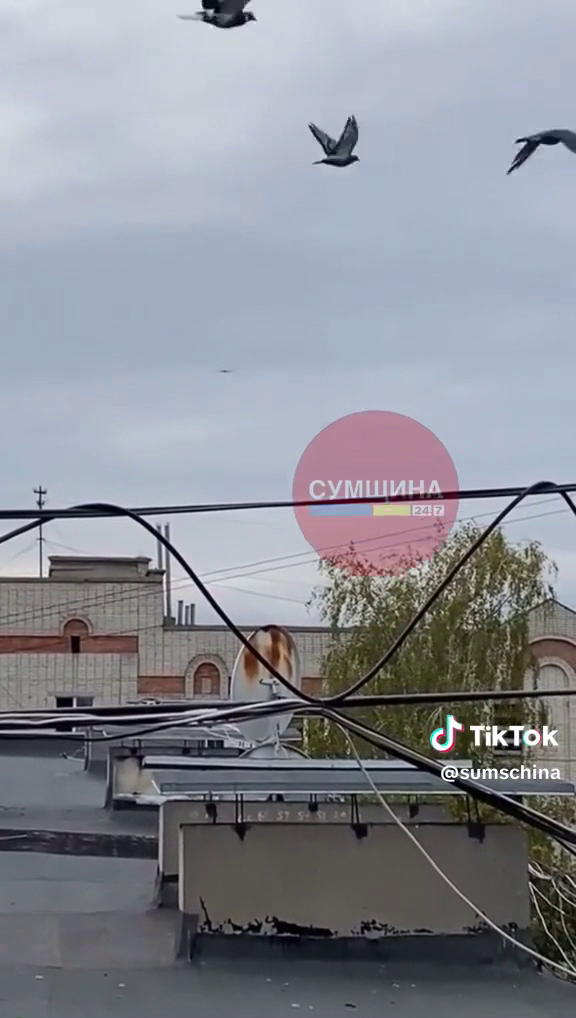not_drone: (496, 106, 576, 189)
